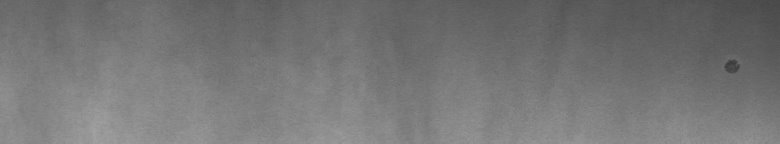fi: (721, 54, 743, 80)
